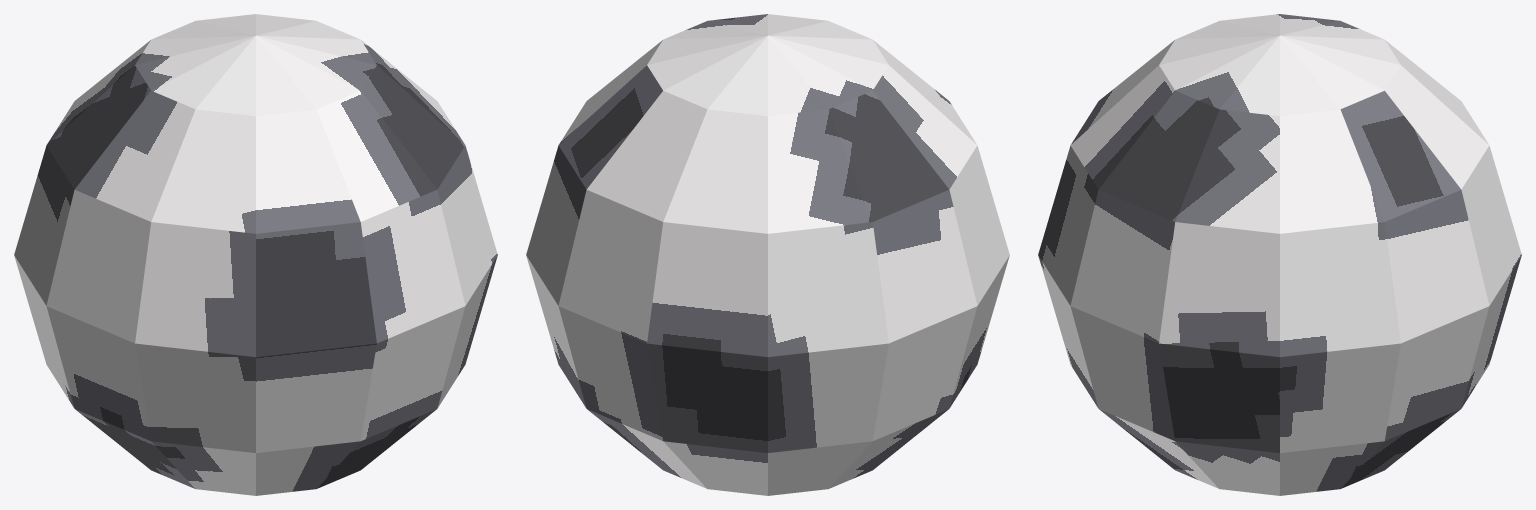
The model's file is football_ball.gltf.
3 renders of one model, left to right at view 1: azimuth 30°, elevation 25°; view 2: azimuth 150°, elevation 25°; view 3: azimuth 270°, elevation 25°, orthographic.
Visible parts, largest first — view 1: sphere; view 2: sphere; view 3: sphere.
Boxes of the visible parts, box(x1,y1,x2,y2) form: sphere: box(14, 14, 497, 495); sphere: box(526, 14, 1009, 495); sphere: box(1038, 14, 1521, 495).
Size of the model in its own units: 0.5 by 0.5 by 0.5.
1 material, 1 textured.
